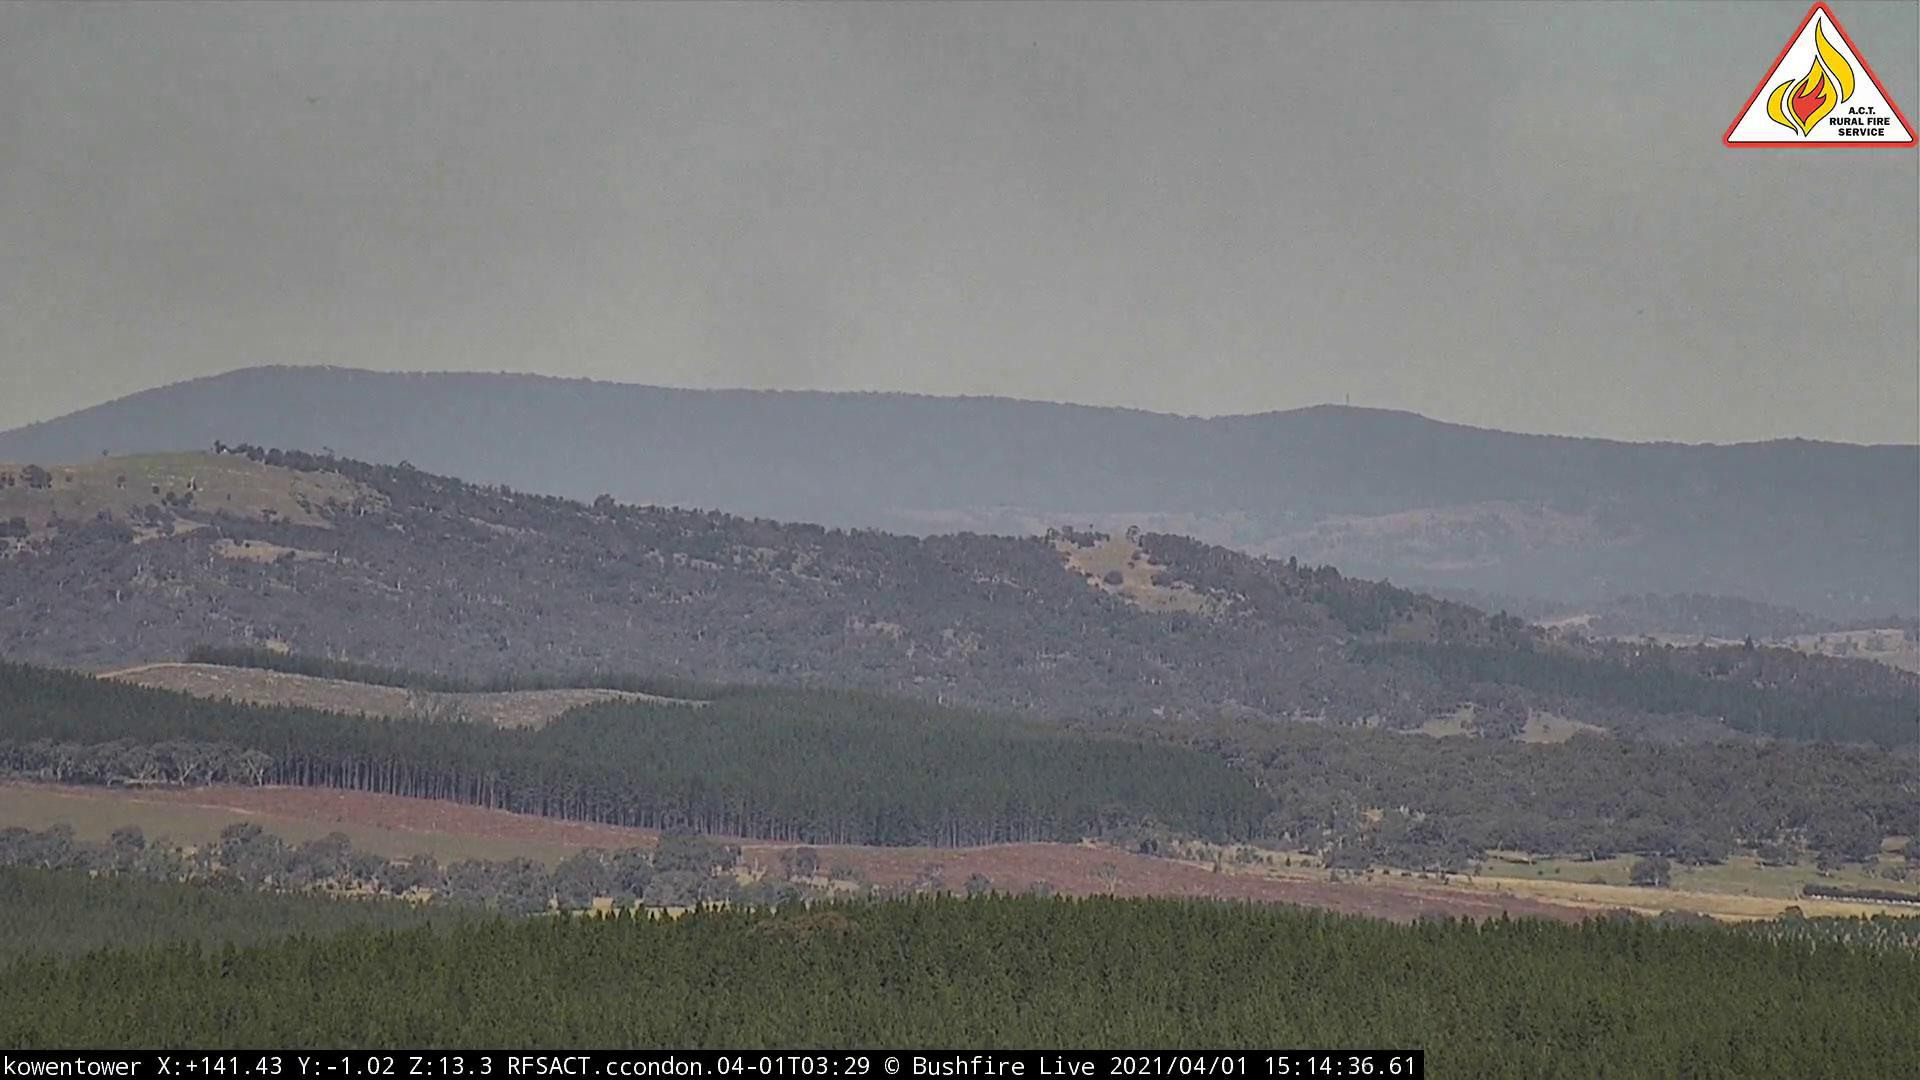Smoke: (675, 281, 899, 429)
